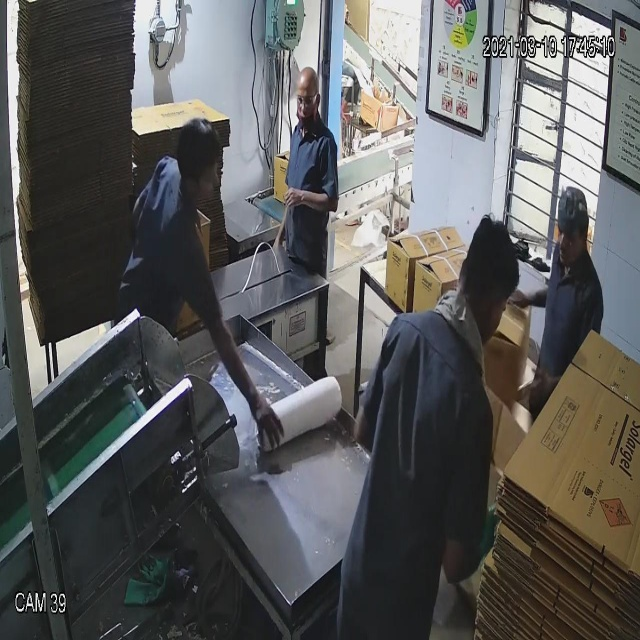Sin_guantes: (198, 292, 286, 454), (277, 171, 346, 236)
